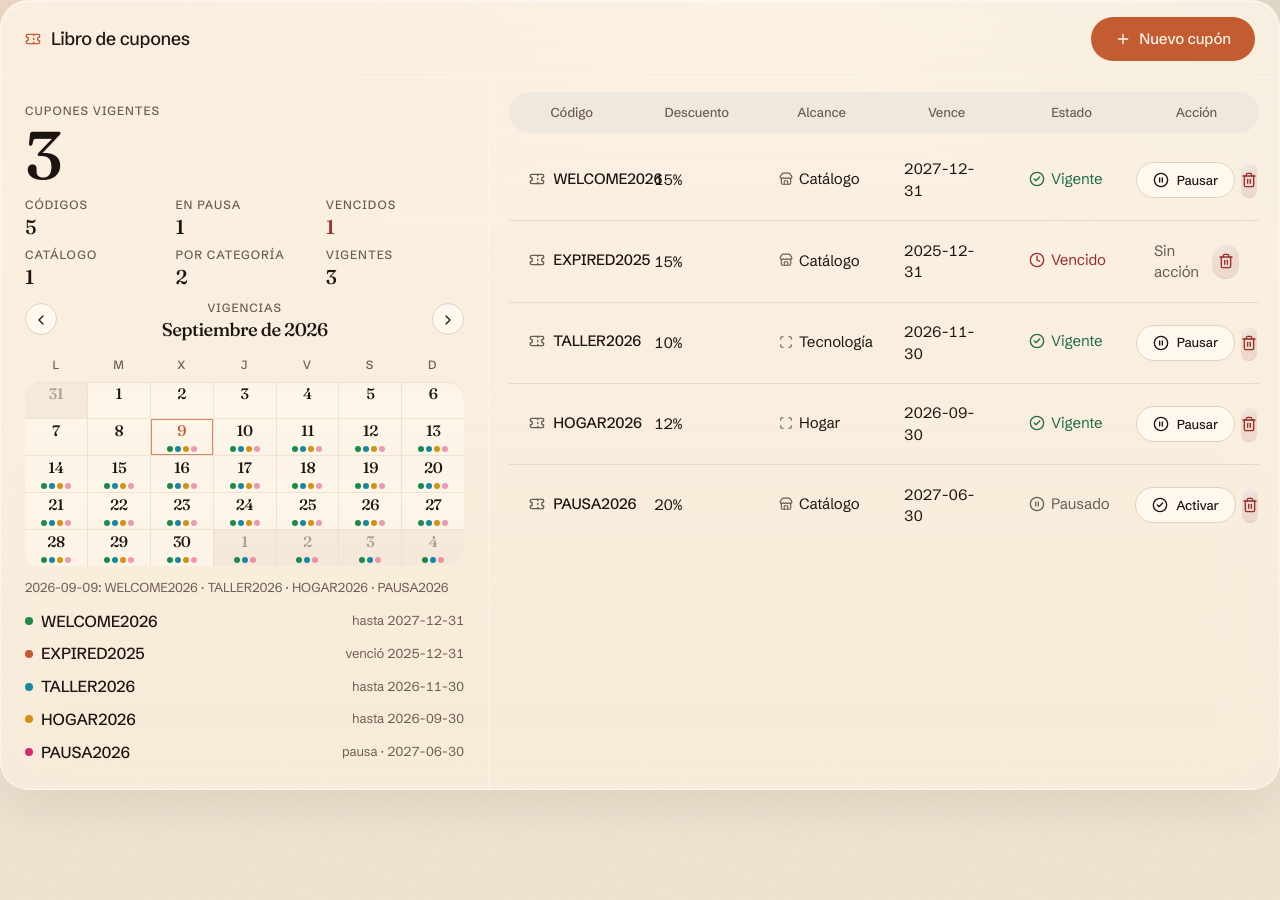
CouponDesk › deletes a coupon
The image size is (1280, 900).
What coordinates should you click on to do the following:
click the button named "Eliminar PAUSA2026"
I would click on:
 (1250, 505)
Its box is [1242,487,1258,523].
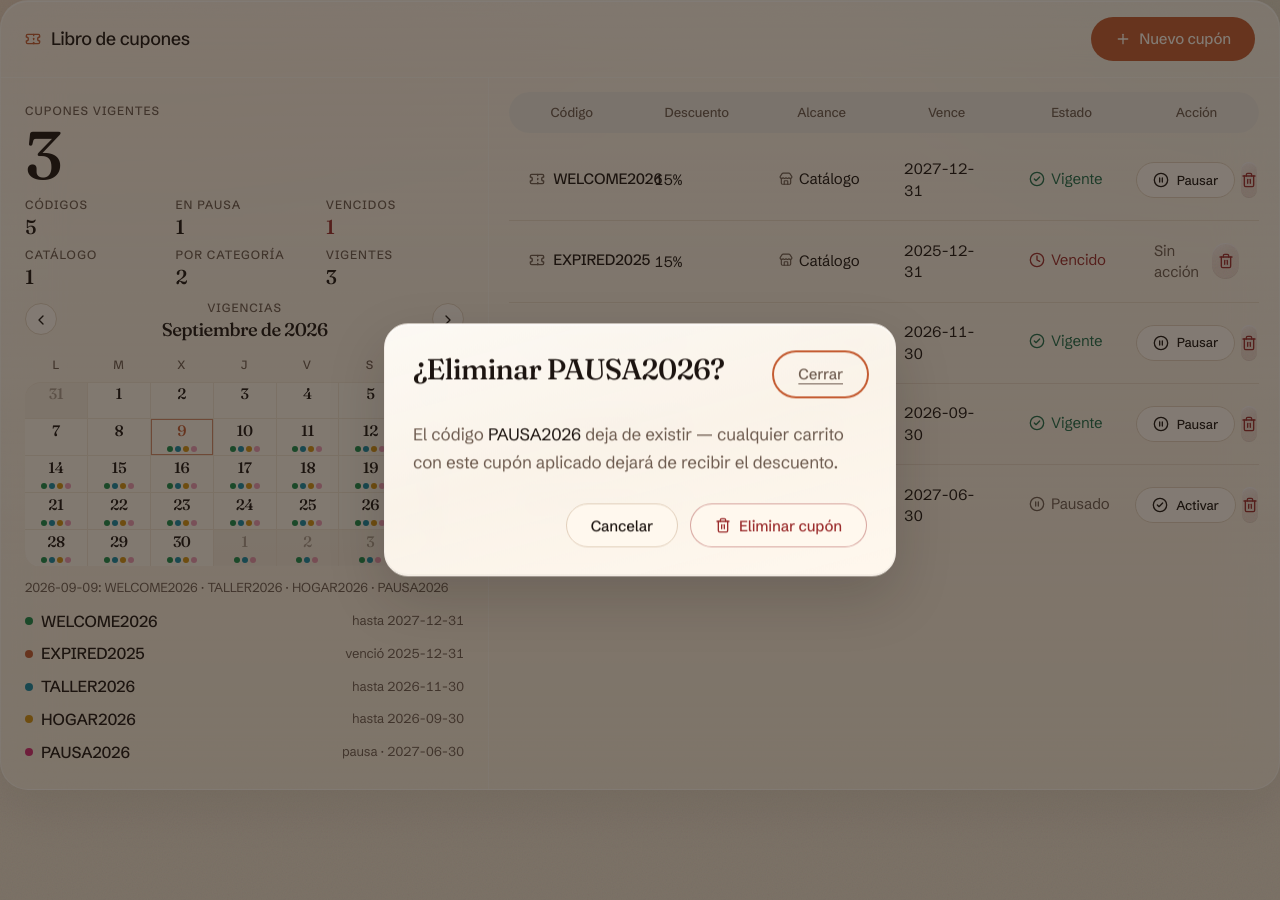
What coordinates should you click on to do the following:
click the button "Eliminar cupón"
I would click on:
 (778, 526)
Its box is [690,504,867,548].
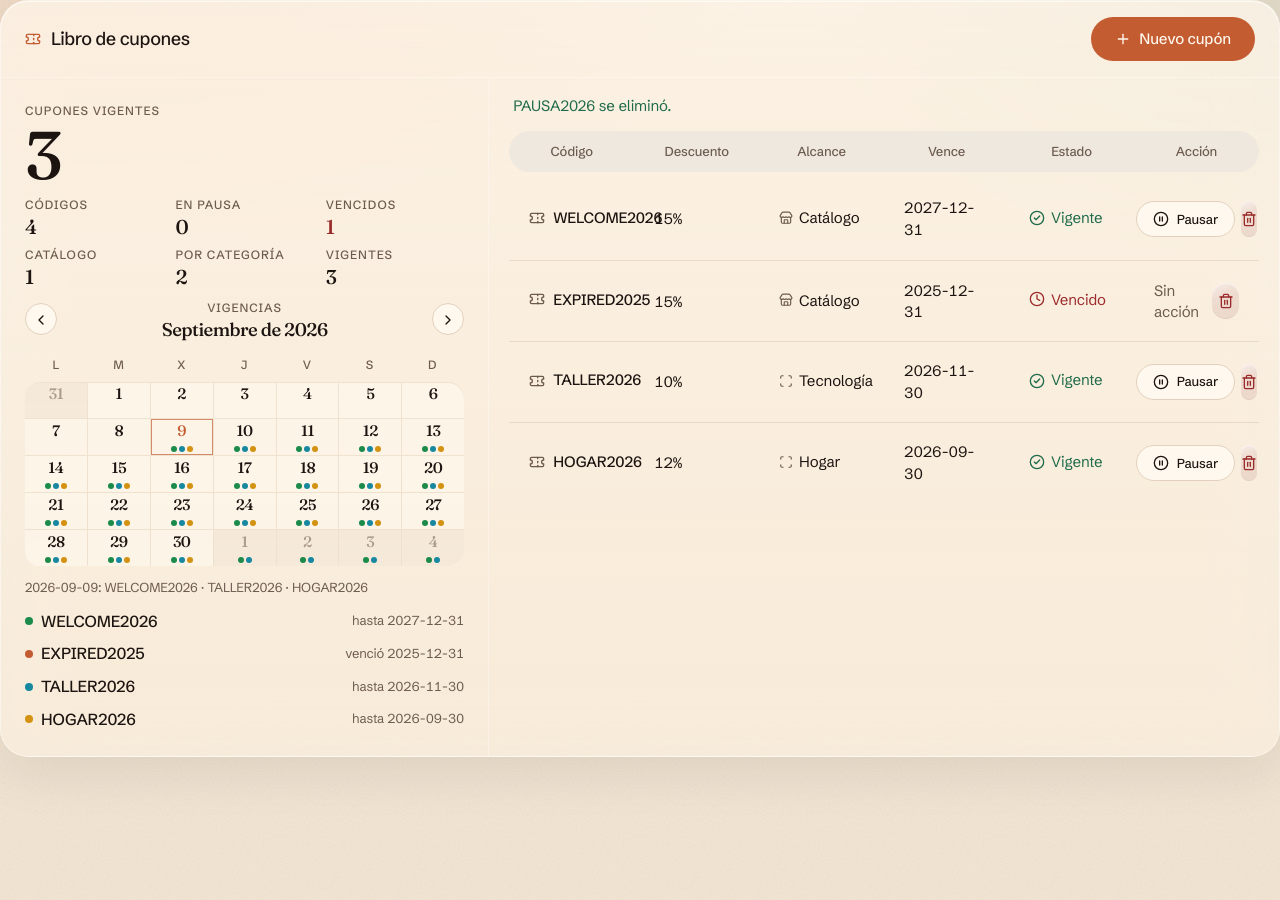
Expected: the message shows "PAUSA2026", [513,96,672,115]
